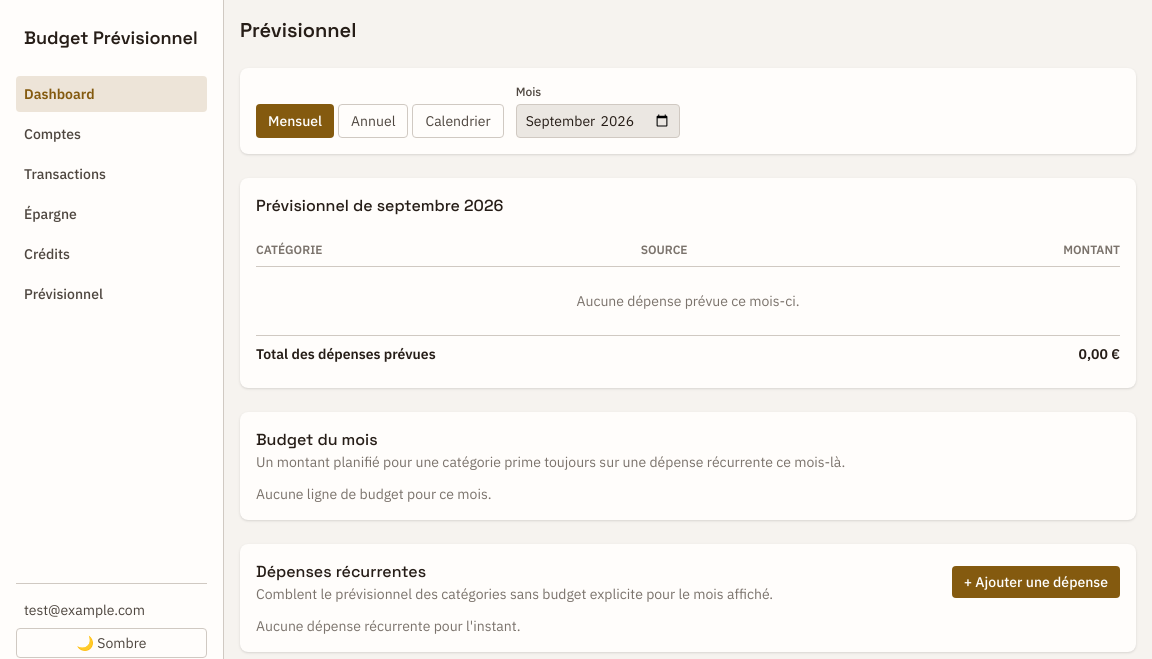
Test case: ForecastPage › switches to the calendar view and shows a recurring expense and a loan on their dates
Expected: the text "Aucune dépense prévue ce mois-ci." is shown, [256,266,1120,336]
Click the button "Calendrier".
click(458, 121)  # box [412,104,504,138]
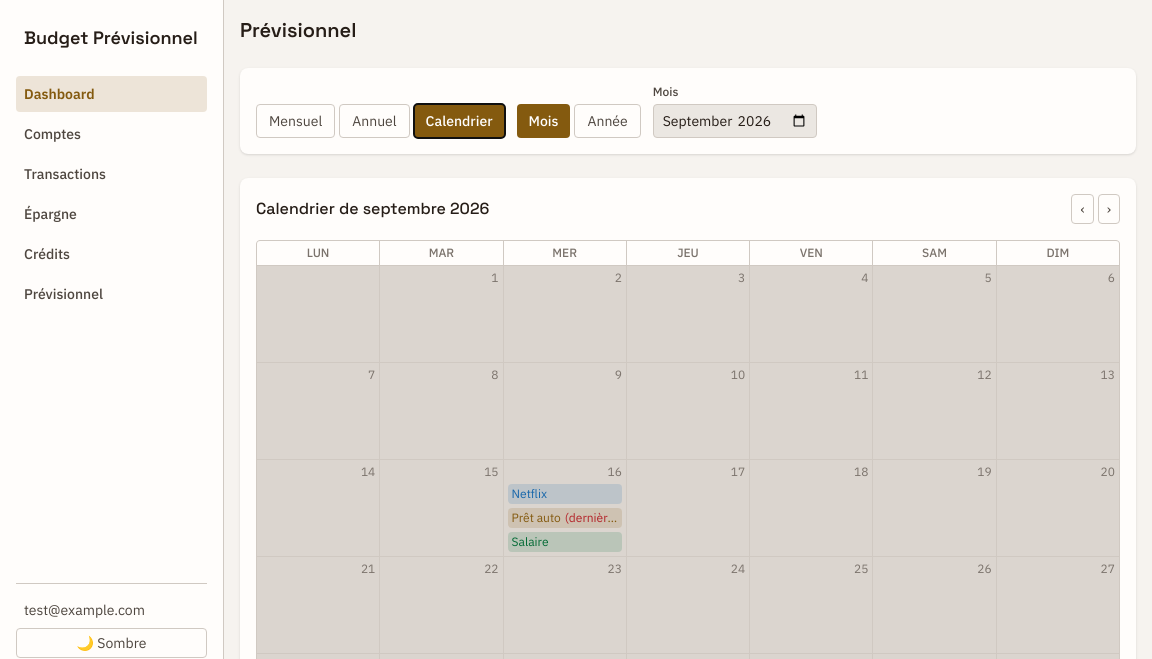
Result: the text "Netflix" is shown at [508,484,622,504]
Result: the text "Prêt auto" is shown at [512,510,561,525]
Result: the text "Salaire" is shown at [508,532,622,552]
